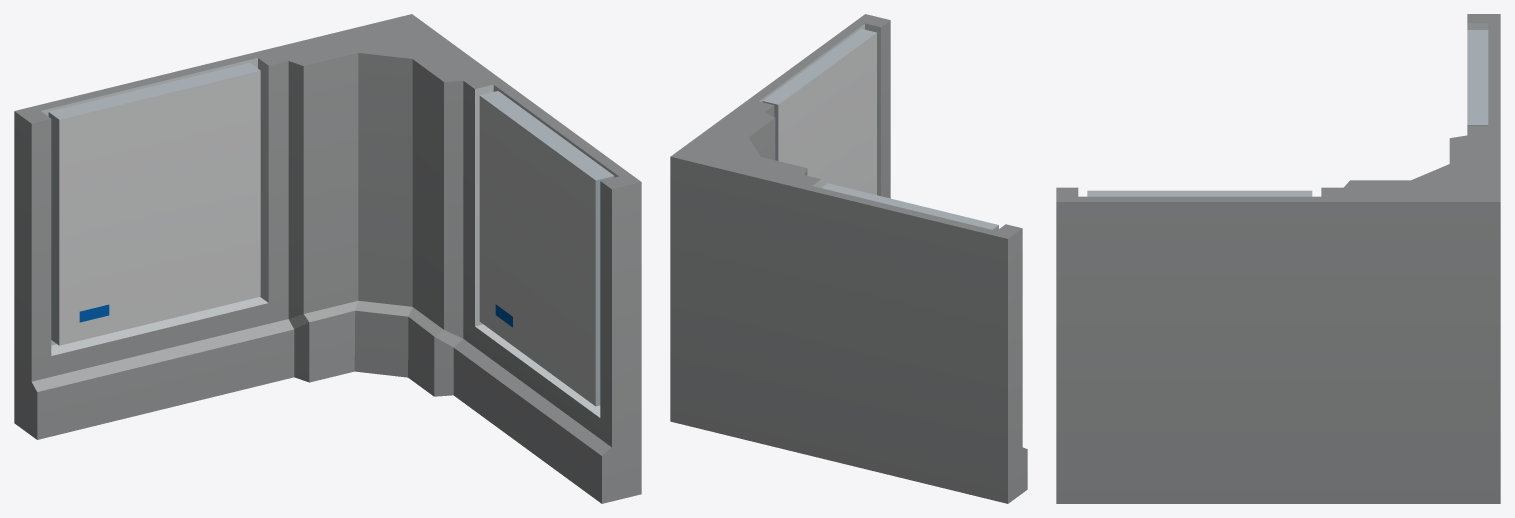
File: Wall_type_A_037.fbx
The picture shows the model from 3 angles, left to right: view 1: azimuth 30°, elevation 25°; view 2: azimuth 150°, elevation 25°; view 3: azimuth 270°, elevation 25°; orthographic projection. The views are drawn at different scales.
Parts seen in each view (by area): view 1: Wall_type_A_037; view 2: Wall_type_A_037; view 3: Wall_type_A_037.
Boxes of the visible parts, box(x1,y1,x2,y2) form: Wall_type_A_037: box(14, 14, 641, 503); Wall_type_A_037: box(670, 14, 1027, 503); Wall_type_A_037: box(1056, 14, 1500, 503).
Size of the model in its own units: 200 by 200 by 150.
